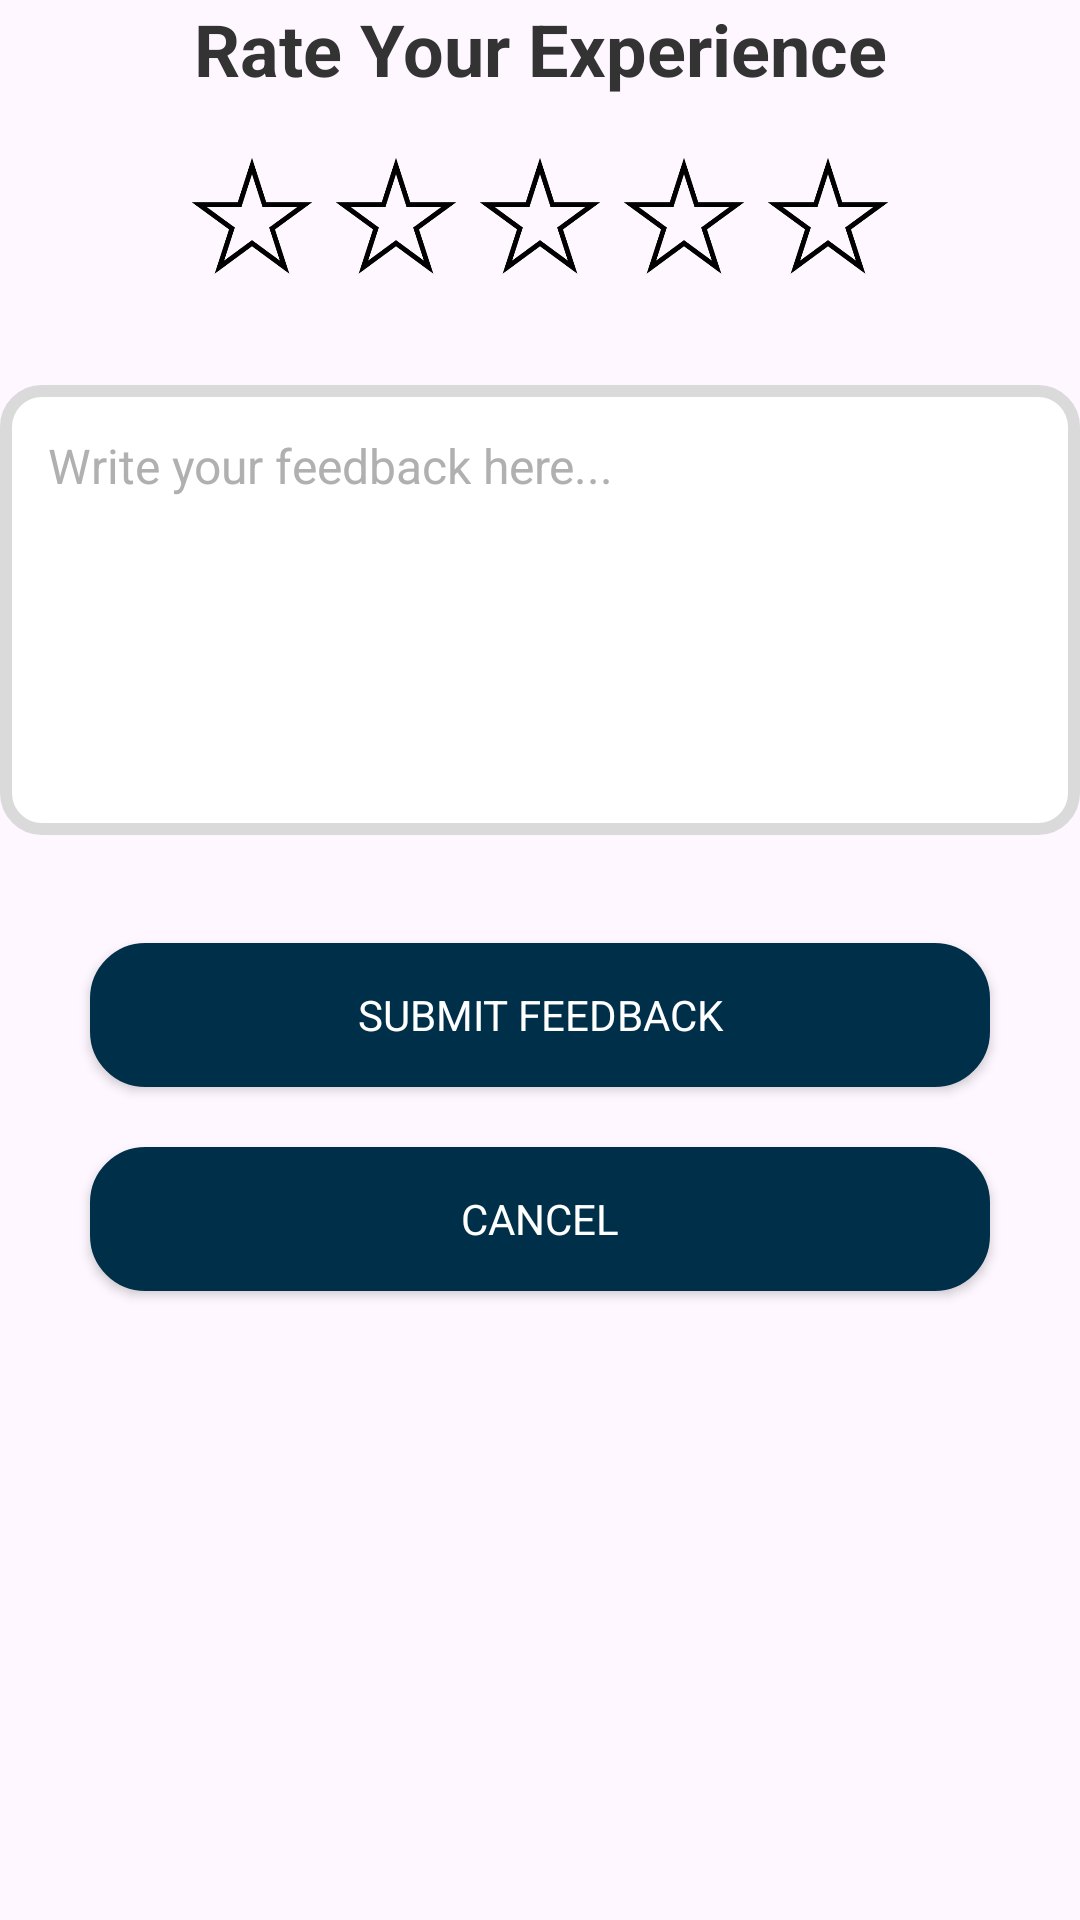

Named icons in this screenshot (1080*1920) and their bounding boxes, (x1, y1, x2, y2):
Star 1: (192, 158, 312, 274)
Star 2: (336, 158, 456, 274)
Star 3: (480, 158, 600, 274)
Star 4: (624, 158, 744, 274)
Star 5: (768, 158, 888, 274)
